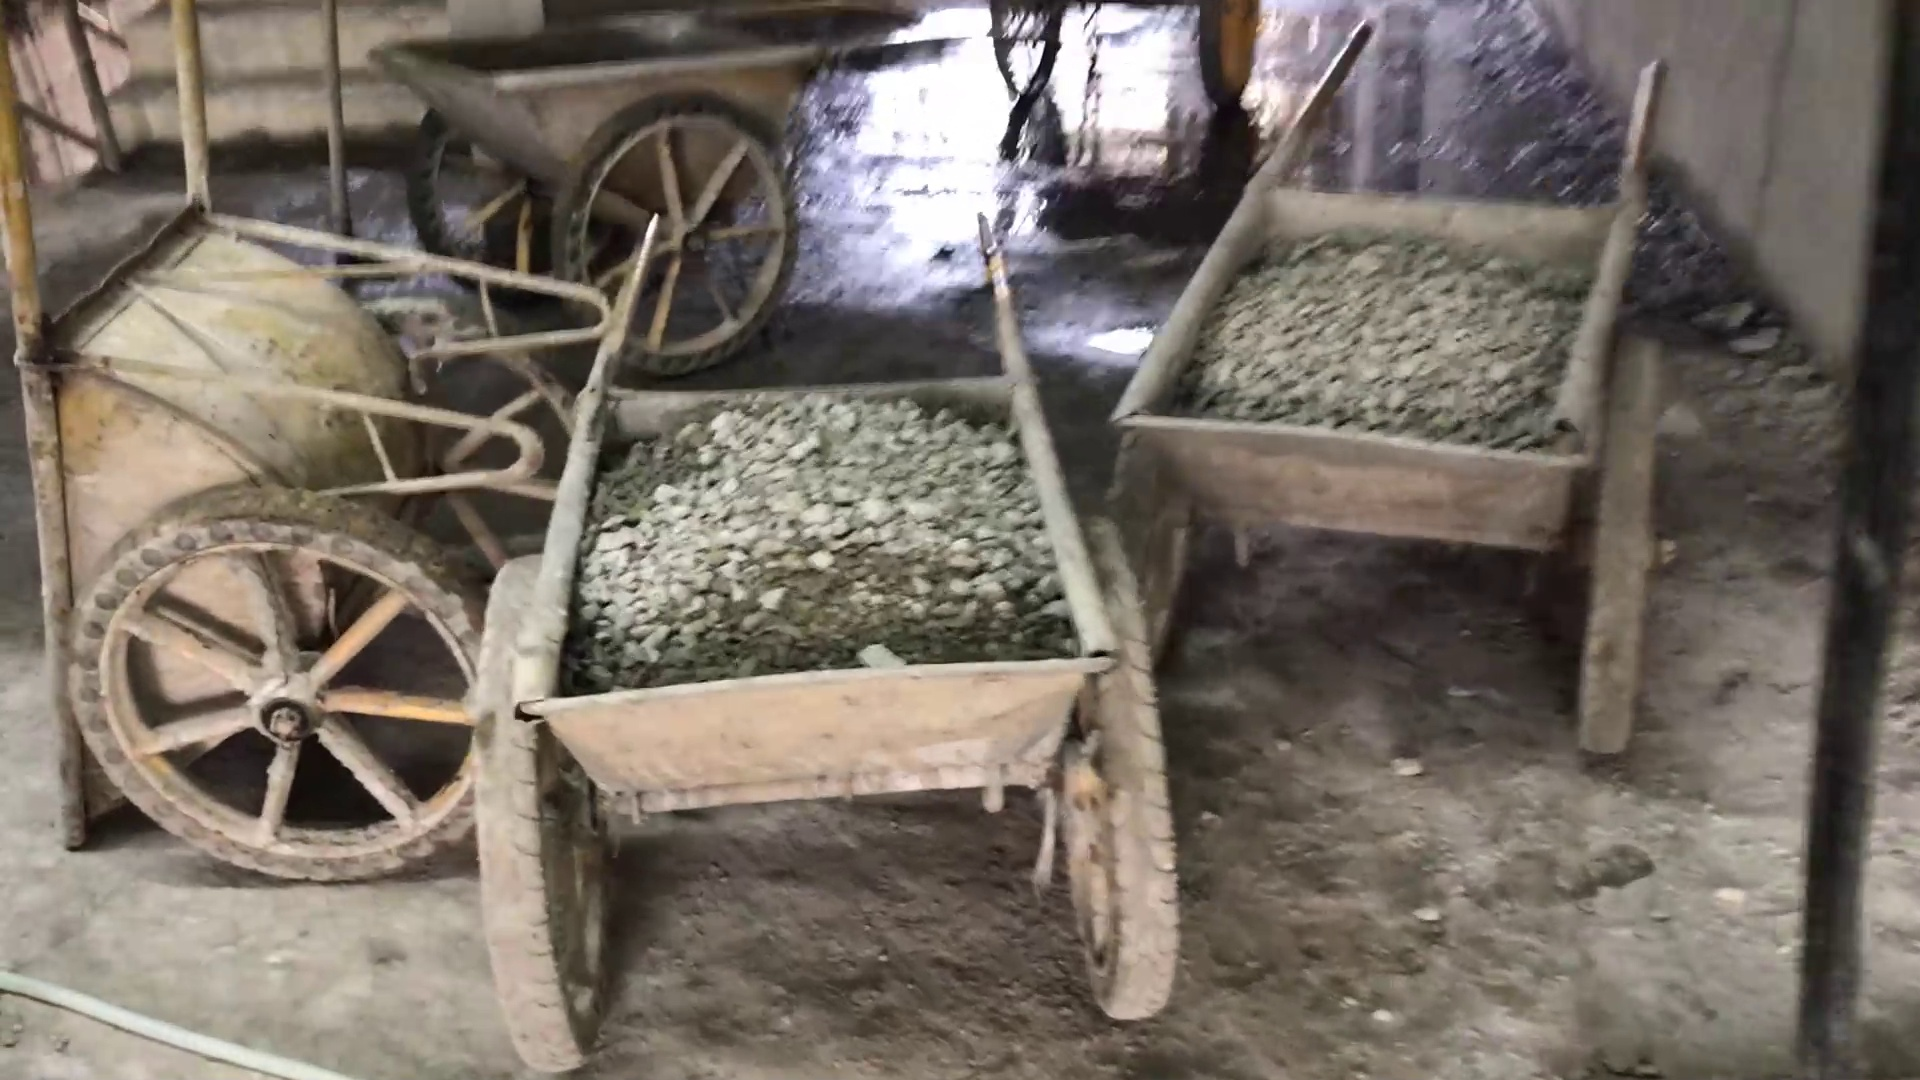handcart: (458, 208, 1183, 1068), (1, 51, 553, 878), (1102, 22, 1655, 758), (378, 33, 876, 363)
